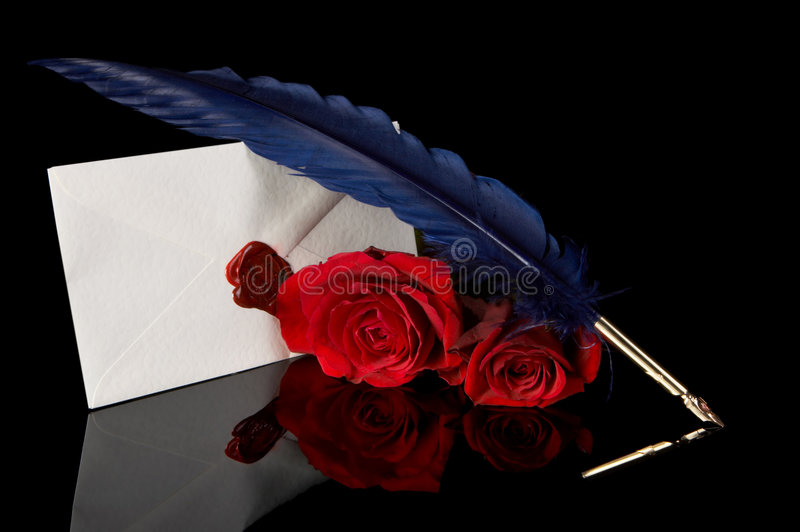RedRose: (281, 240, 459, 390), (453, 306, 608, 417)
